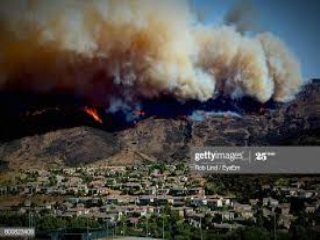fire: (81, 104, 105, 127)
smoke: (65, 6, 216, 109), (202, 13, 305, 108)
